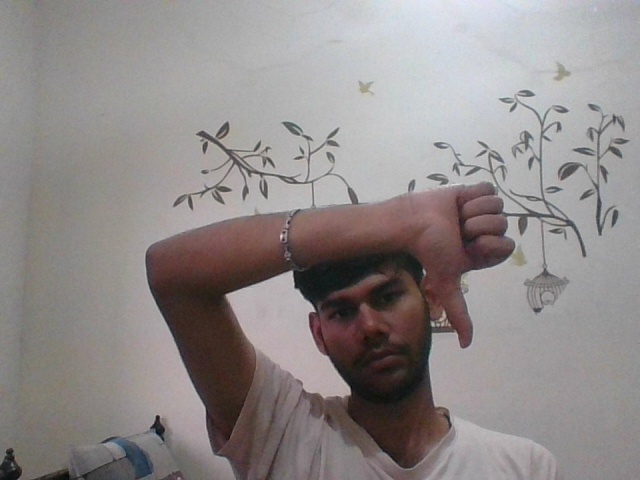No: (411, 177, 531, 353)
